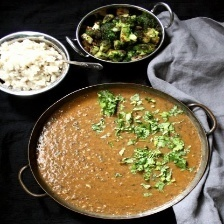sabzi: (72, 5, 165, 65)
